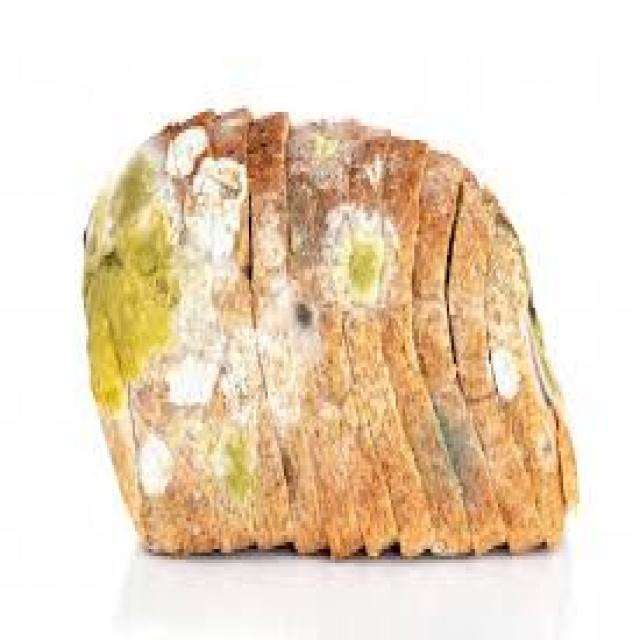organic waste: (79, 105, 575, 556)
